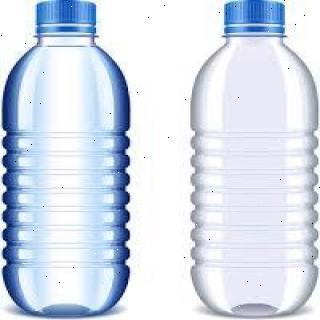Plastic-bottle: (1, 1, 134, 320), (188, 2, 320, 320)
